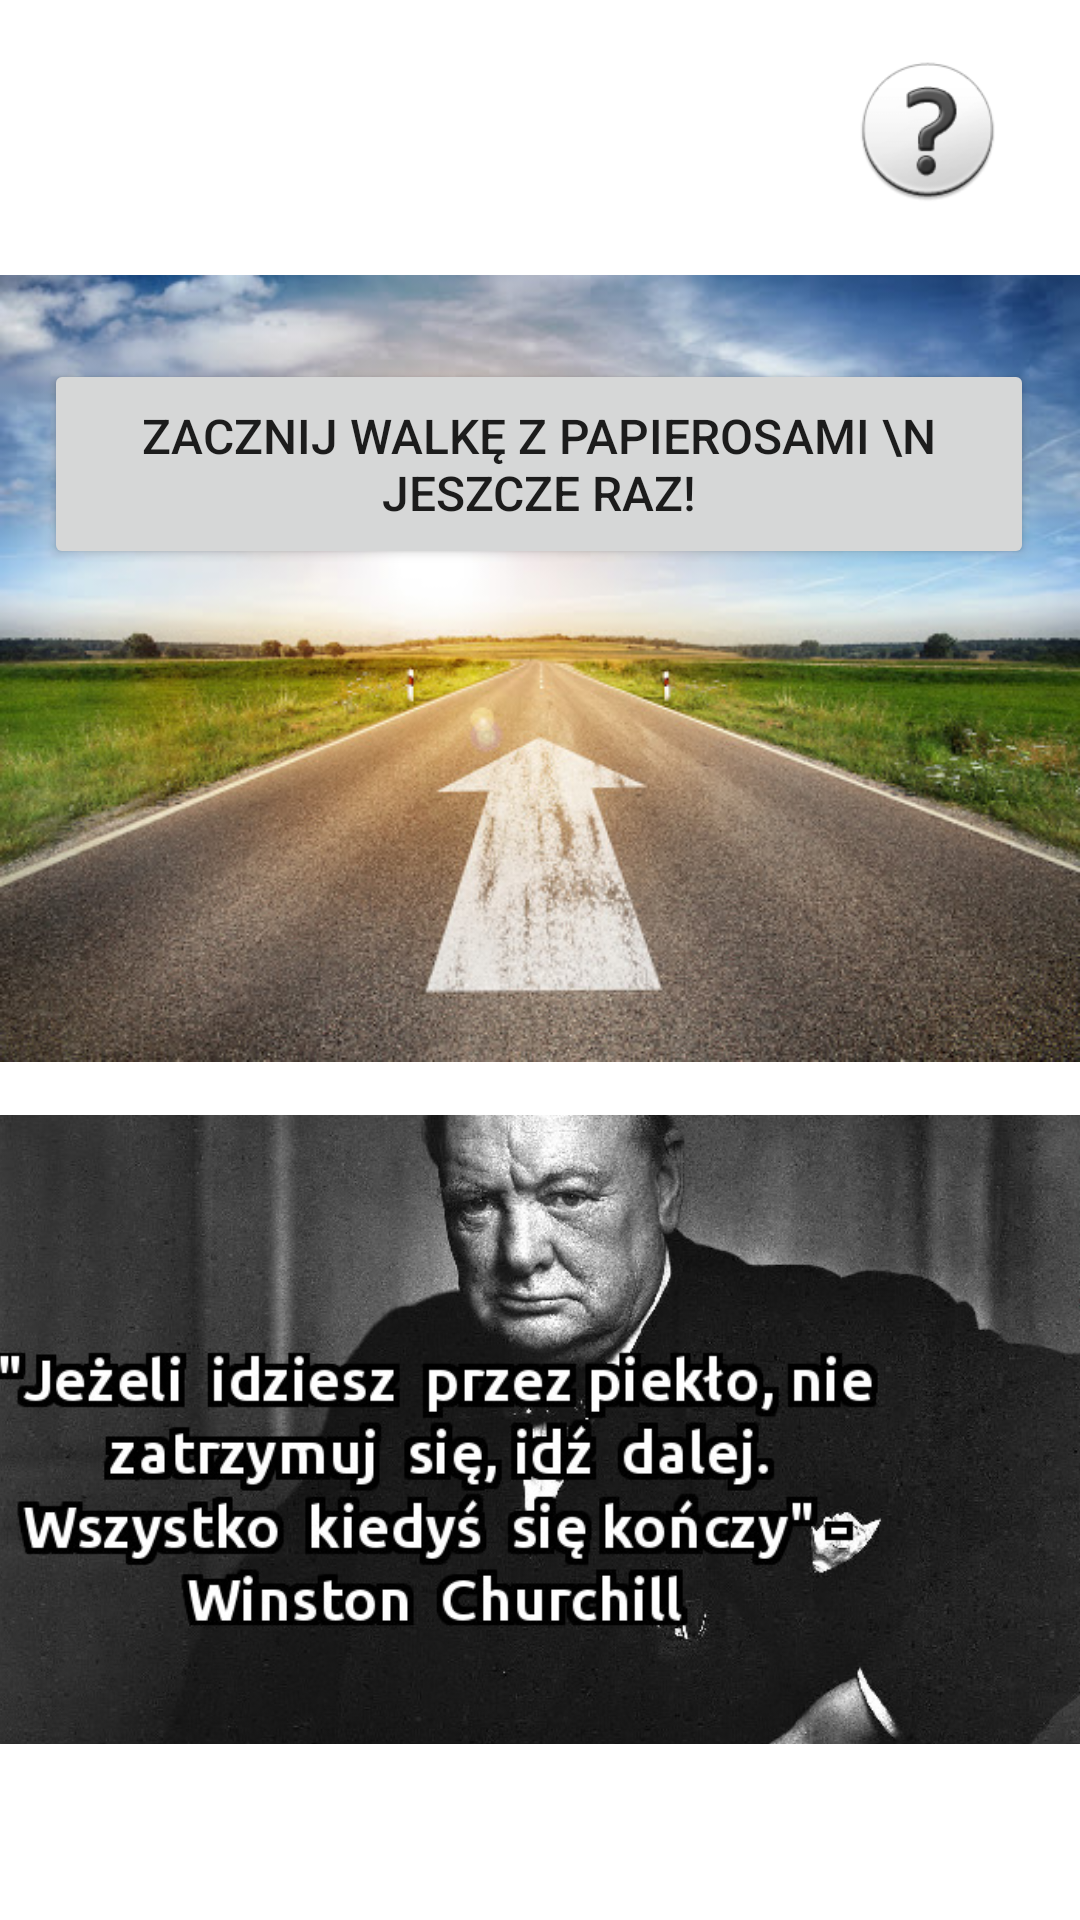

Point at icon controls on the screen. Image size 1080x1920, points as [x,y].
questionmark: [928,131]
